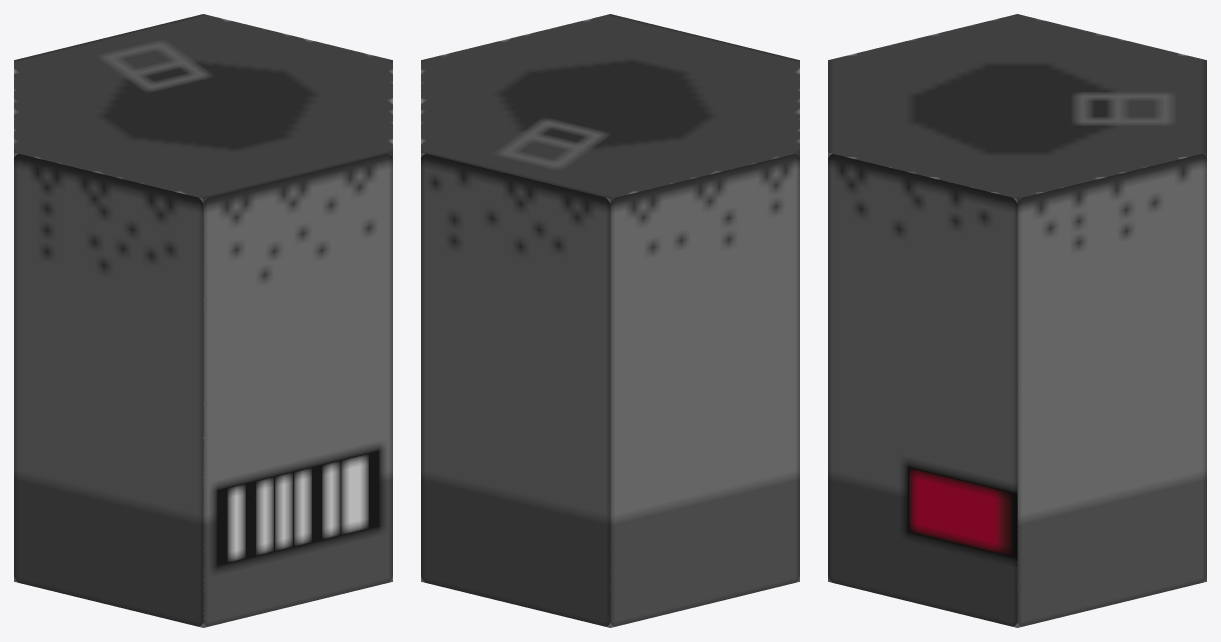
File: can.fbx
The picture shows the model from 3 angles, left to right: view 1: azimuth 30°, elevation 25°; view 2: azimuth 150°, elevation 25°; view 3: azimuth 270°, elevation 25°; orthographic projection.
Parts seen in each view (by area): view 1: cylinder; view 2: cylinder; view 3: cylinder.
Part boxes in pixels (x1=…): cylinder: x1=14, y1=14, x2=392, y2=627; cylinder: x1=421, y1=14, x2=799, y2=627; cylinder: x1=828, y1=14, x2=1206, y2=627.
Size of the model in its own units: 57.74 by 62.5 by 50.
Materials: 1 (1 with a texture image).
